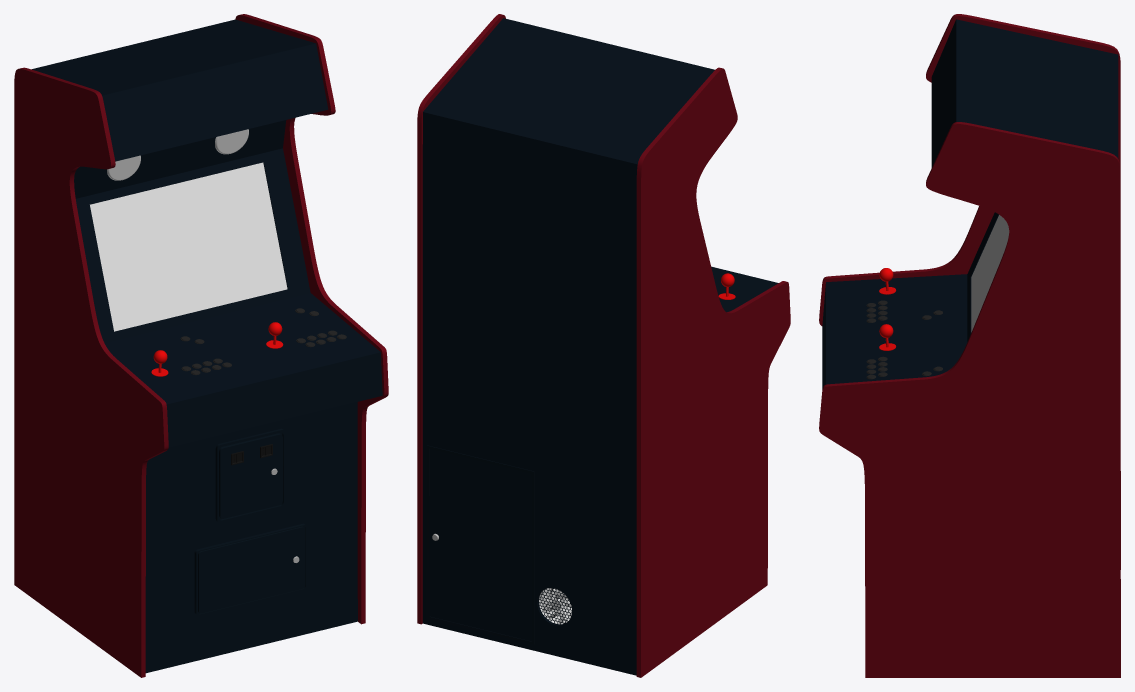
3 views of the same model, side by side, from view 1: azimuth 30°, elevation 25°; view 2: azimuth 150°, elevation 25°; view 3: azimuth 270°, elevation 25° (orthographic).
Visible parts, largest first — view 1: Body, SidePanels, Screen, MaintenanceDoor, CoinPlate, Plane.001; view 2: Body, SidePanels, BackMaintenanceDoor, honeycomb; view 3: SidePanels, Body, Screen.
Part boxes in pixels (x1,y1,x2,y2): Body: [32, 19, 382, 673]; SidePanels: [14, 14, 388, 677]; Screen: [90, 162, 287, 331]; MaintenanceDoor: [194, 523, 307, 615]; CoinPlate: [215, 428, 285, 523]; Plane.001: [107, 129, 248, 180]; Body: [422, 18, 778, 675]; SidePanels: [417, 14, 790, 677]; BackMaintenanceDoor: [426, 445, 534, 644]; honeycomb: [538, 588, 571, 624]; SidePanels: [819, 14, 1120, 677]; Body: [822, 19, 1118, 389]; Screen: [971, 215, 1009, 332].
Size of the model in its own units: 76.98 by 181 by 89.16.
